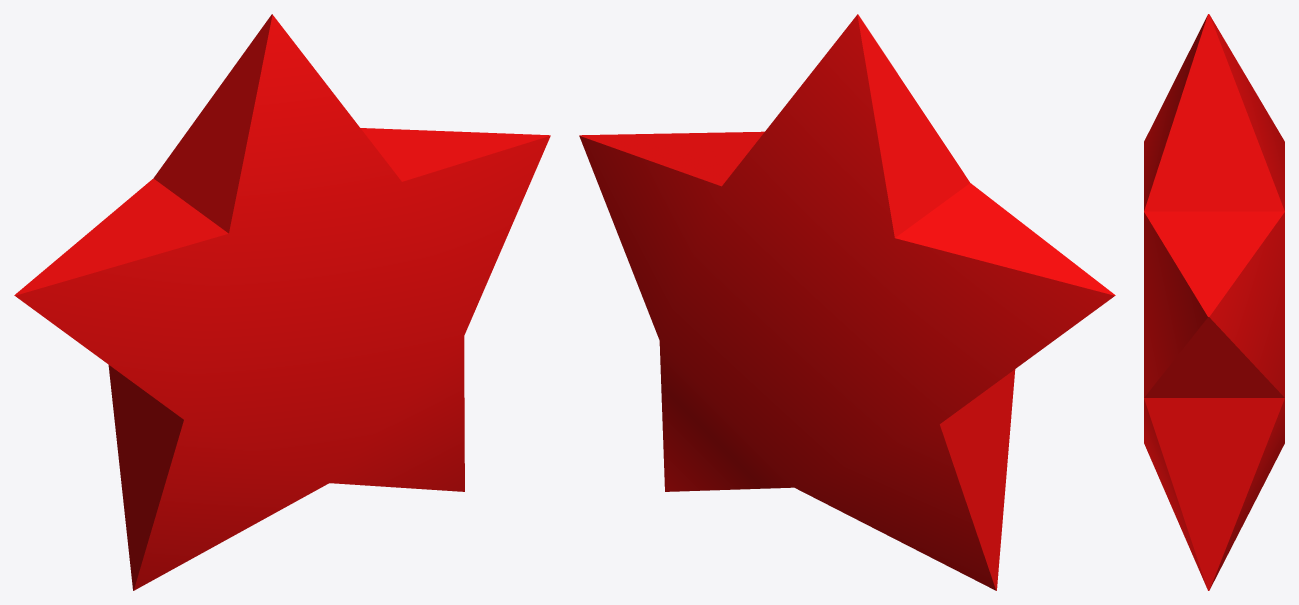
The model's file is star.dae.
3 renders of one model, left to right at view 1: azimuth 30°, elevation 25°; view 2: azimuth 150°, elevation 25°; view 3: azimuth 270°, elevation 25°, orthographic. The views are drawn at different scales.
Visible parts, largest first — view 1: Star001; view 2: Star001; view 3: Star001.
Boxes of the visible parts, x1,y1,x2,y2 form: Star001: (14,14,550,590); Star001: (579,14,1115,590); Star001: (1144,14,1284,590).
Size of the model in its own units: 16.39 by 15.85 by 4.
